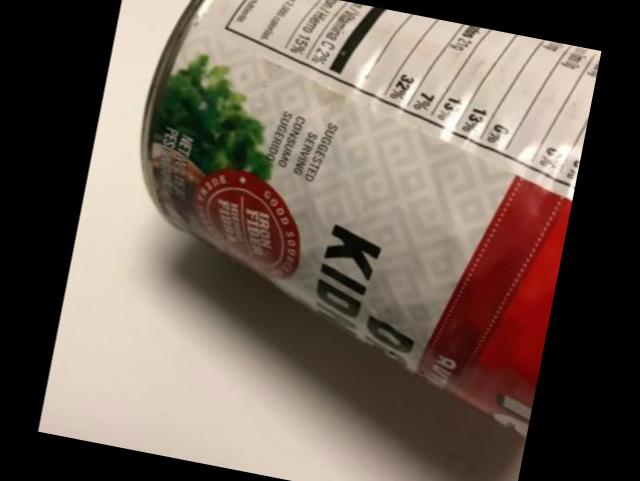metal: (146, 0, 602, 430)
